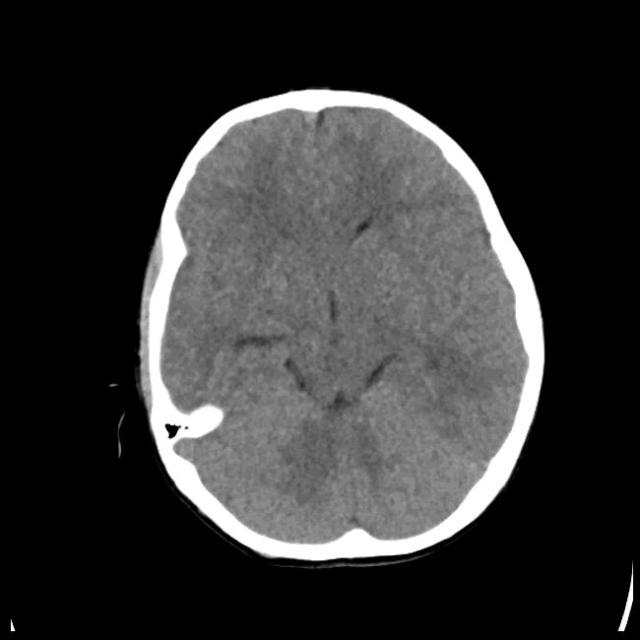lesion: (134, 87, 545, 564)
